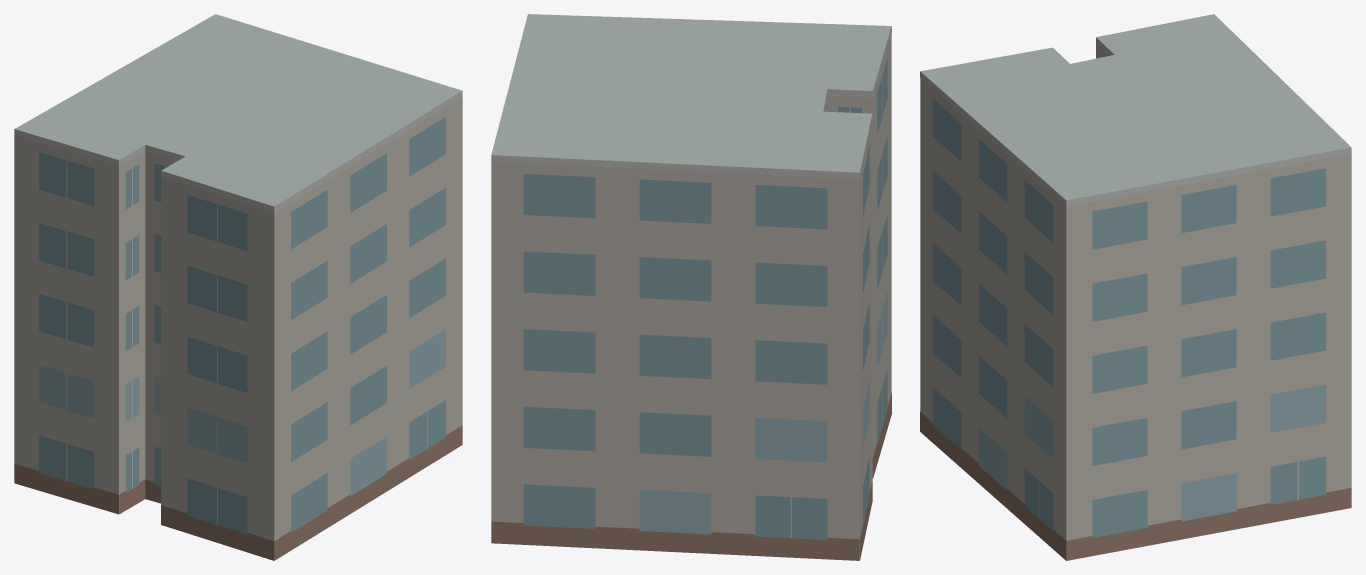
File: survey-upis-32732796.glb
The picture shows the model from 3 angles, left to right: view 1: azimuth 30°, elevation 25°; view 2: azimuth 150°, elevation 25°; view 3: azimuth 270°, elevation 25°; orthographic projection. The views are drawn at different scales.
Parts seen in each view (by area): view 1: survey-upis-32732796.tmp; view 2: survey-upis-32732796.tmp; view 3: survey-upis-32732796.tmp.
Boxes of the visible parts, <box> form: survey-upis-32732796.tmp: <box>14,14,462,560</box>; survey-upis-32732796.tmp: <box>491,14,891,560</box>; survey-upis-32732796.tmp: <box>920,14,1351,560</box>.
Bounding box in the file's own units: 15.65 × 14.1 × 15.31.
